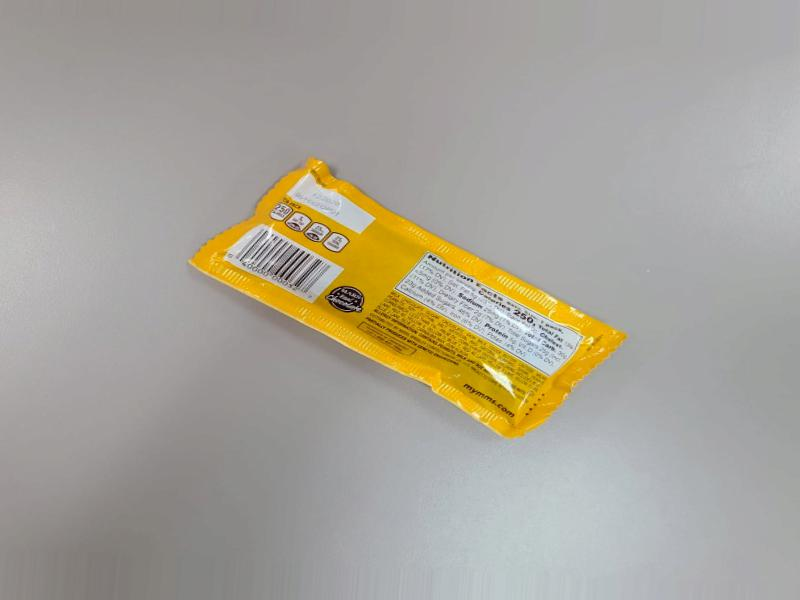m&m: (172, 147, 643, 451)
